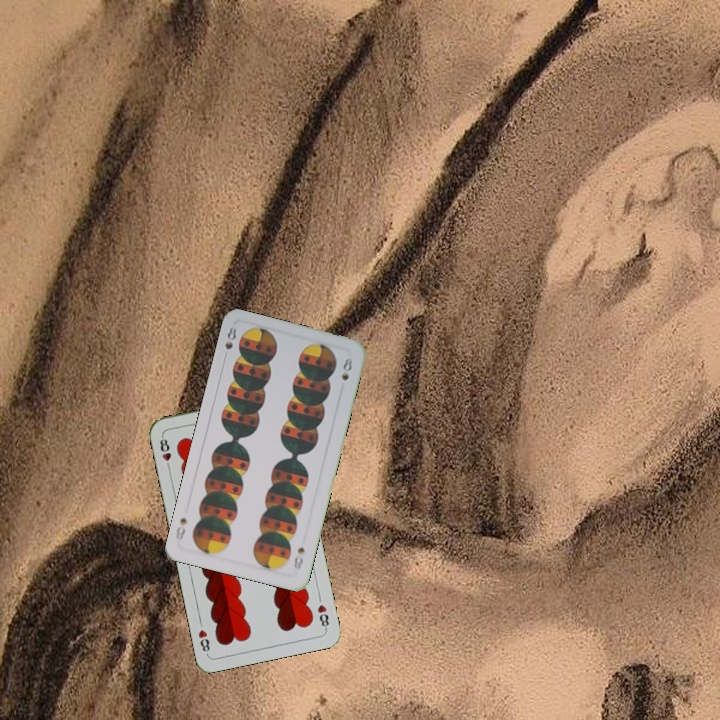H8: (156, 432, 174, 472), (313, 600, 331, 632)
S8: (220, 323, 239, 362), (289, 543, 307, 572)
